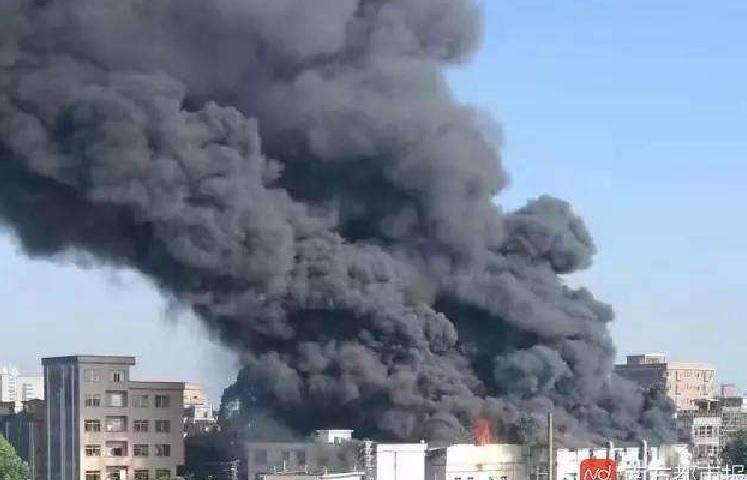fire: (472, 416, 495, 442)
